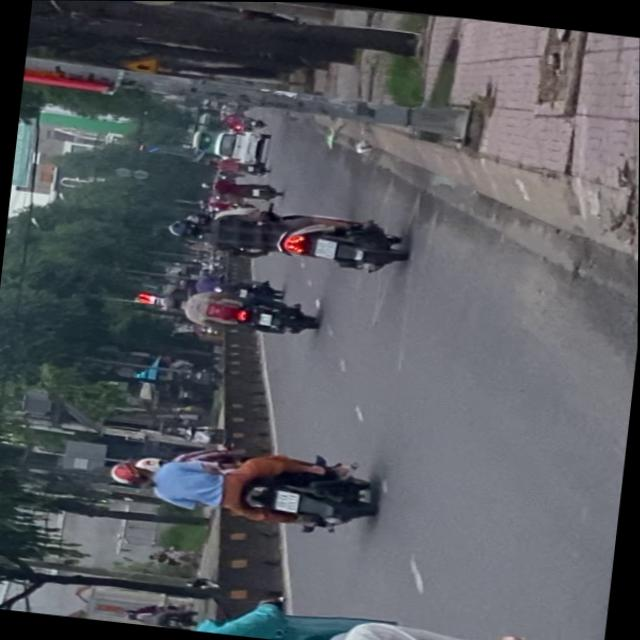helmet: (108, 460, 154, 488), (167, 216, 205, 240)
licenseplate: (53, 574, 606, 640), (103, 432, 382, 540), (162, 192, 411, 279)
nohelmet: (274, 490, 299, 512), (313, 238, 336, 257)
